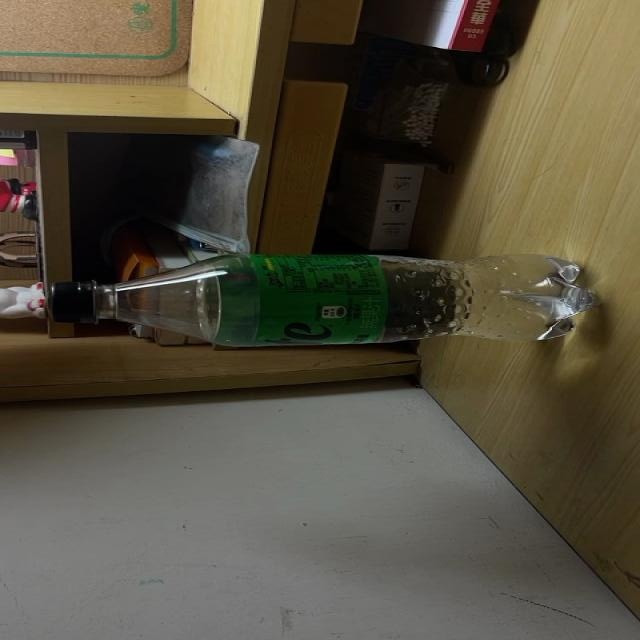Sprite: (46, 252, 597, 348)
